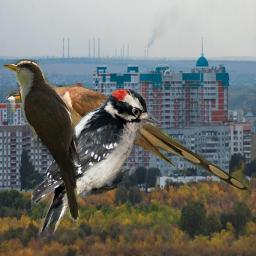Cuckoo: (1, 81, 250, 191), (2, 59, 84, 223)
Woodpecker: (31, 89, 164, 241)
